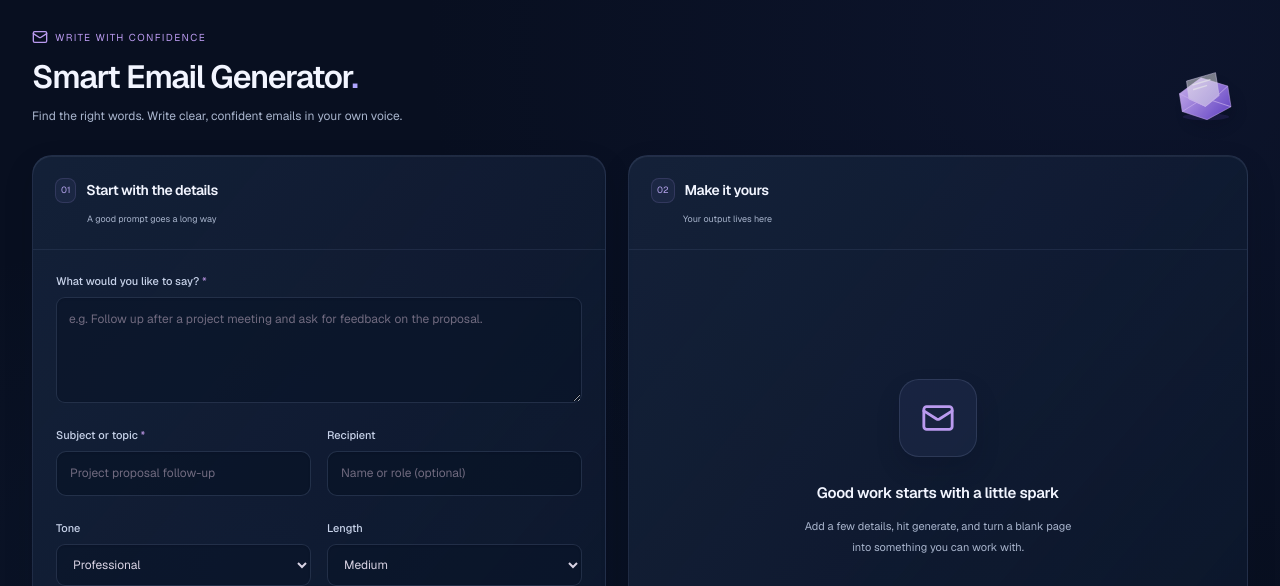
Test: editable AI workspace › shows input validation without losing the prompt
Type "Proposal" into the field labelled "Subject or topic *" at x=184, y=474, box [56,451,311,496]
(page scrolled)
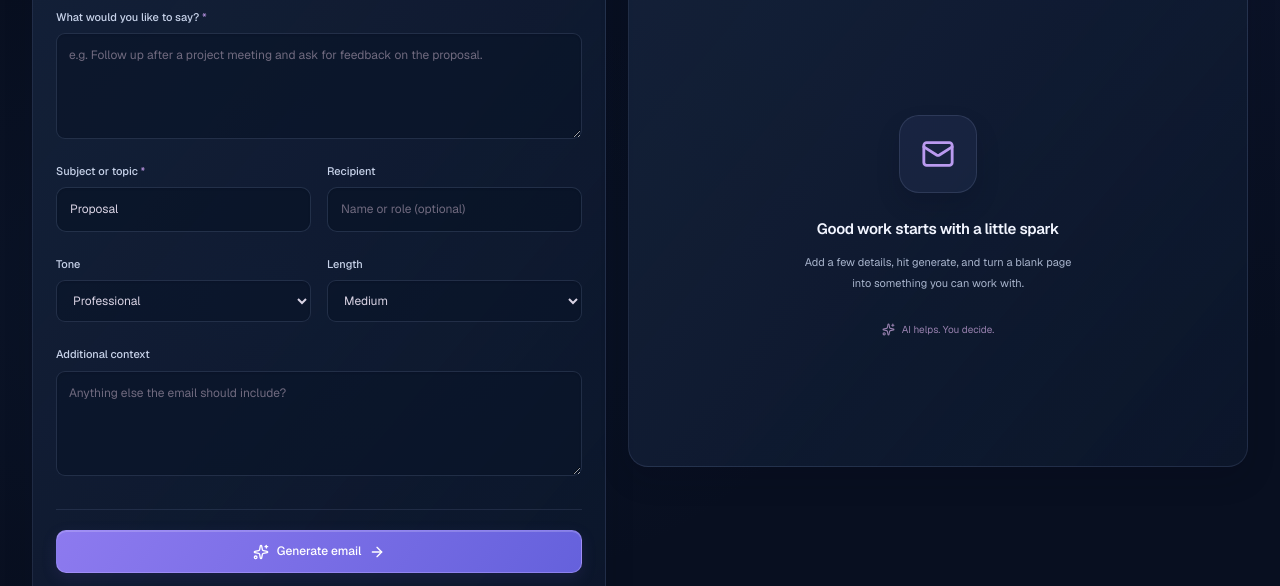
Click the button "Generate email" at x=319, y=552, box [56,530,582,573]
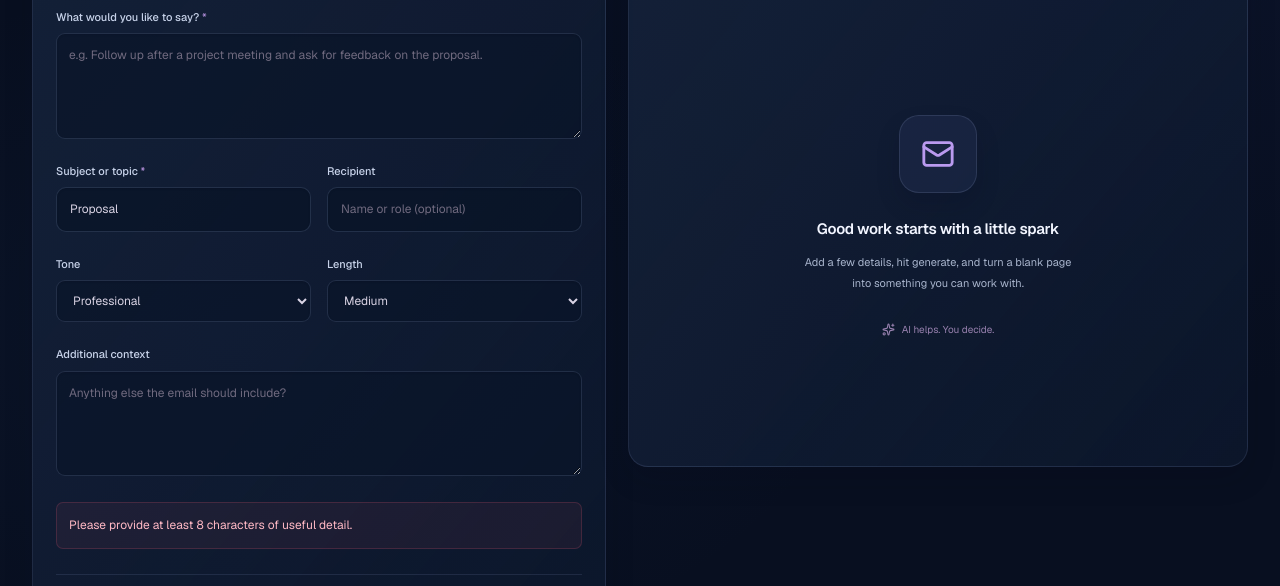
Expected: the message shows "8 characters", [69,517,352,533]
